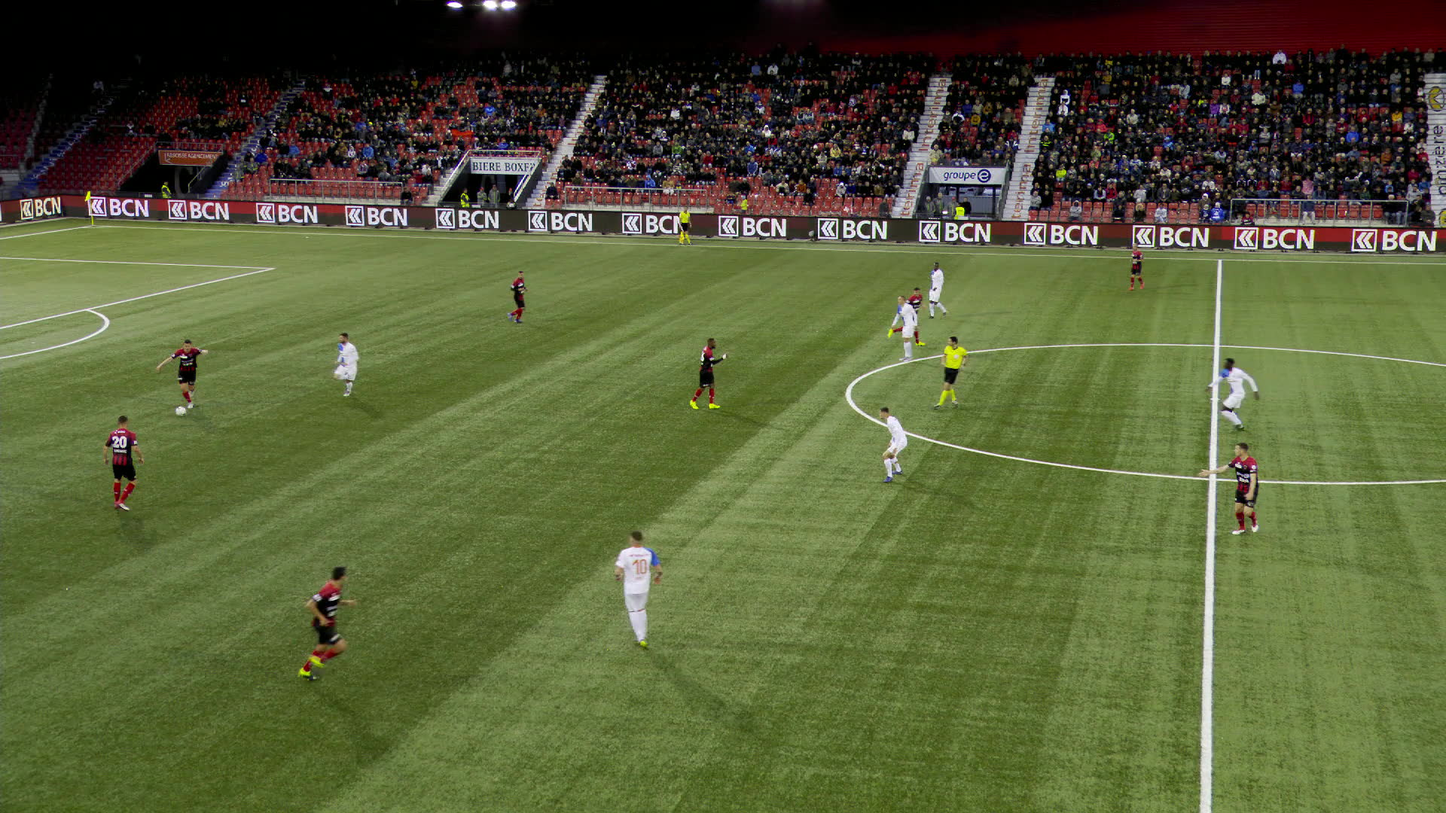ball: (174, 407, 185, 416)
player: (278, 566, 345, 687), (608, 531, 664, 653), (1197, 439, 1261, 540), (103, 416, 147, 512), (1200, 355, 1253, 433), (156, 338, 210, 408), (688, 336, 728, 410), (327, 331, 369, 400), (877, 402, 907, 482), (886, 297, 919, 362), (892, 288, 921, 349), (502, 269, 528, 324), (923, 262, 946, 321), (1124, 244, 1143, 291)
referee: (931, 337, 967, 411), (676, 206, 694, 246)
